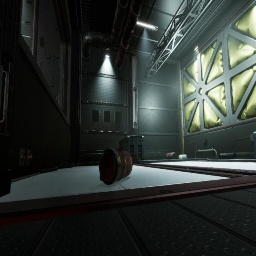0: (177, 154, 187, 159)
FireExtinguisher ]: (99, 148, 137, 185)
NitrogenTank ,: (166, 152, 176, 160)
